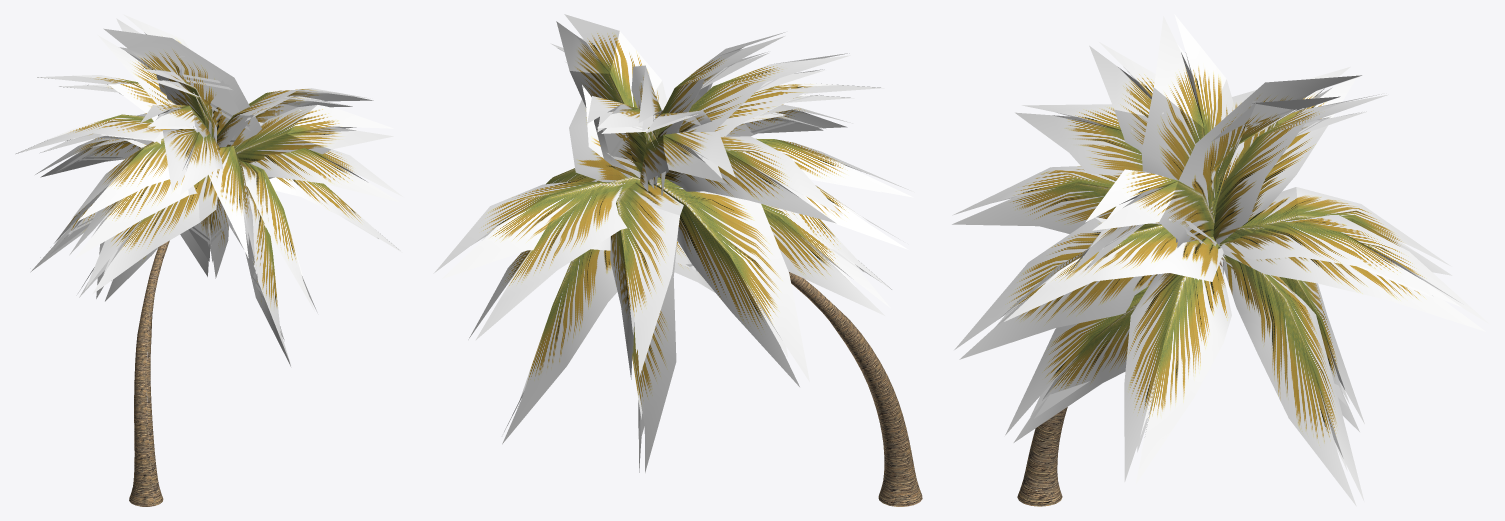
Rendered from Palm_tree-2.fbx.
The picture shows the model from 3 angles, left to right: view 1: azimuth 30°, elevation 25°; view 2: azimuth 150°, elevation 25°; view 3: azimuth 270°, elevation 25°; orthographic projection. The views are drawn at different scales.
Parts seen in each view (by area): view 1: Palm_Tree_2_LOD00; view 2: Palm_Tree_2_LOD00; view 3: Palm_Tree_2_LOD00.
Part boxes in pixels (box(x1,y1,x2,y2)): Palm_Tree_2_LOD00: box(16, 14, 402, 506); Palm_Tree_2_LOD00: box(433, 14, 922, 506); Palm_Tree_2_LOD00: box(952, 14, 1488, 506).
Size of what is drawn, in the model's own units: 1003 by 1112 by 1072.
